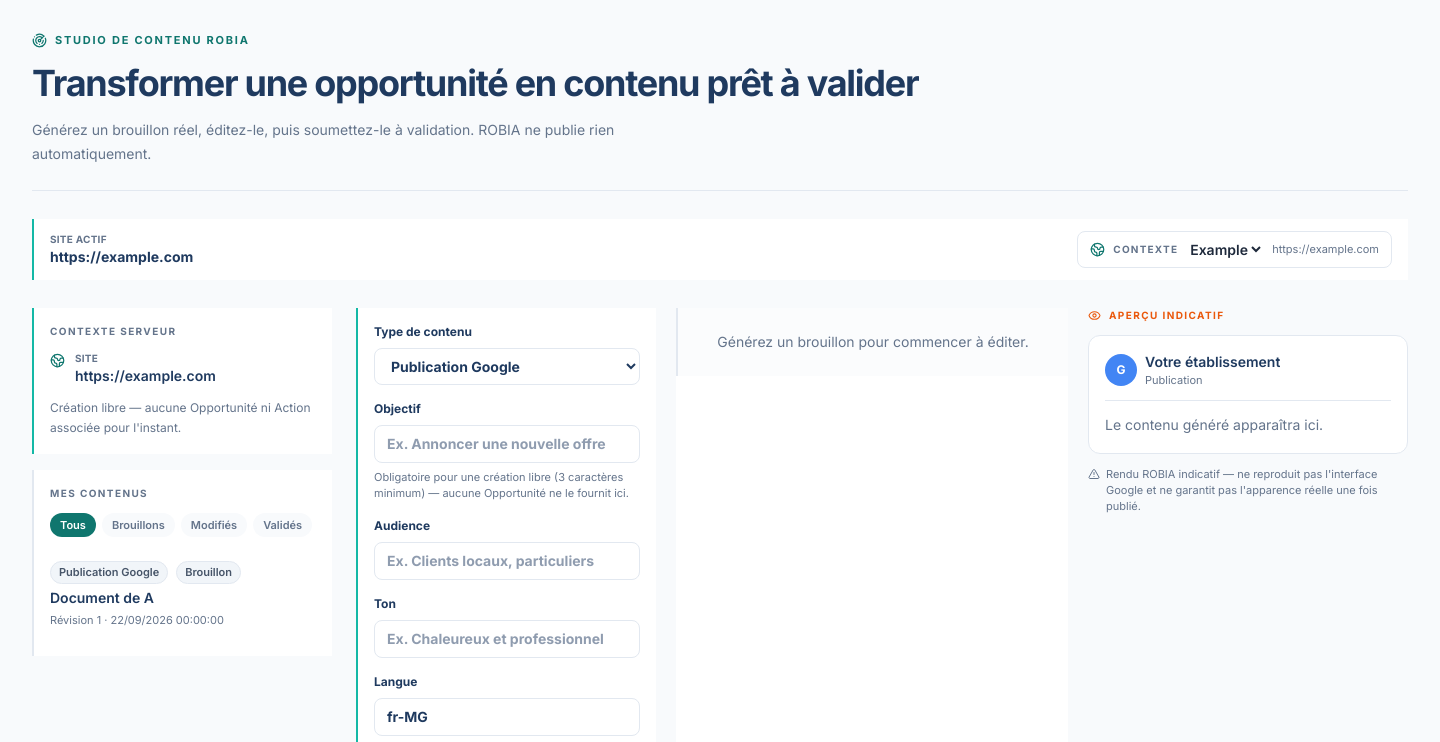
Test case: PageIA — Content Studio (RC39) › clears a library selection made on one site when switching to another
What coordinates should you click on to do the following:
click the text "Document de A"
I would click on:
 (102, 598)
Its box is [50,588,154,608].
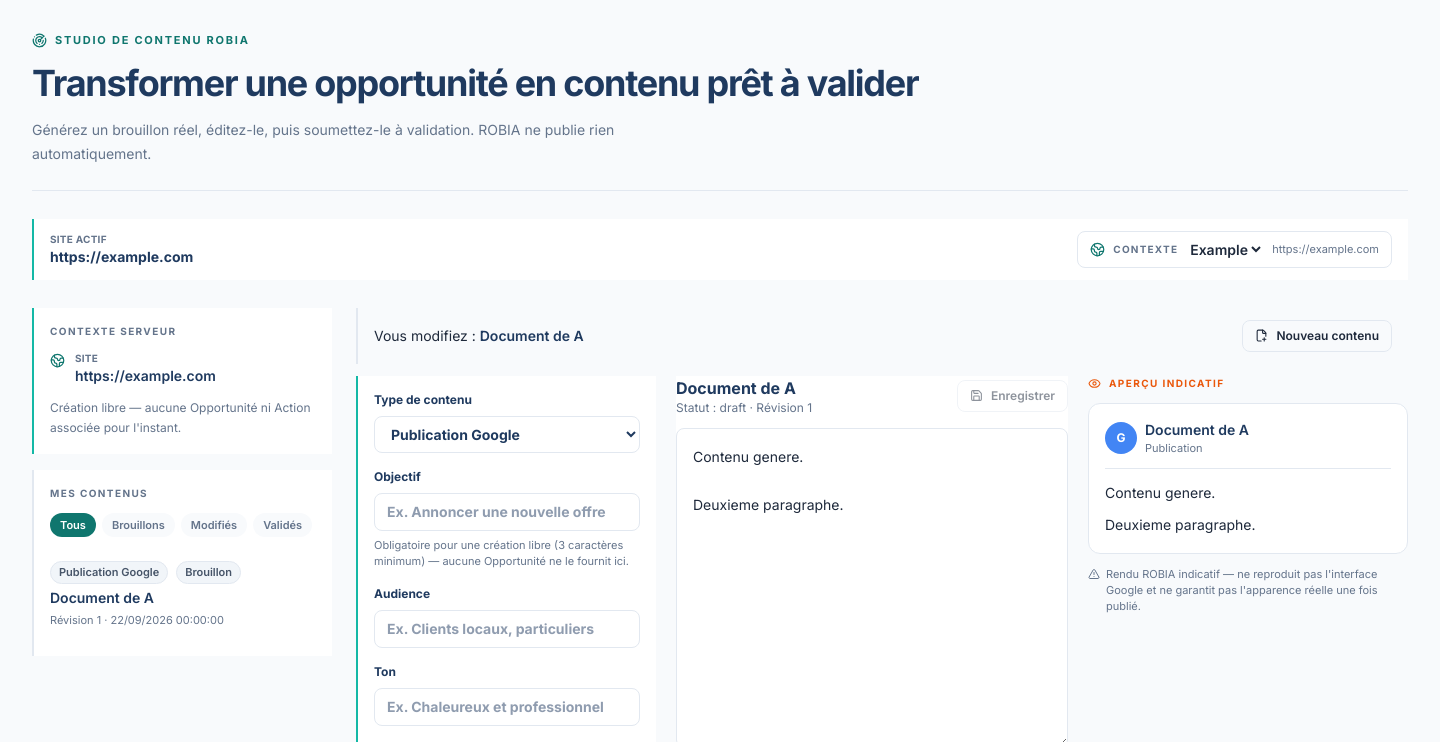
expect the text "Vous modifiez :" is shown: met, box [374,326,480,344]
